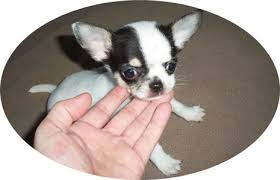chihuahua: (38, 6, 219, 174)
